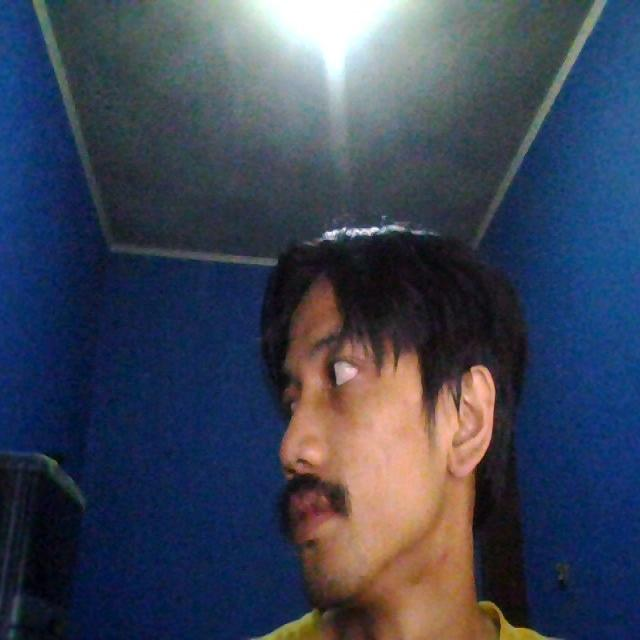Melihat kekanan: (240, 208, 538, 614)
